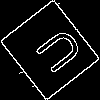U: (25, 25, 86, 82)
